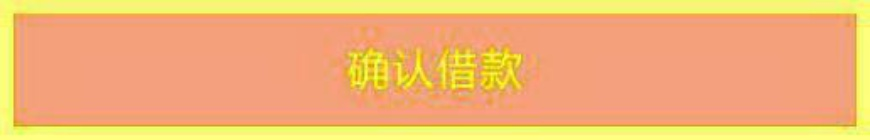Button: (1, 1, 869, 139)
